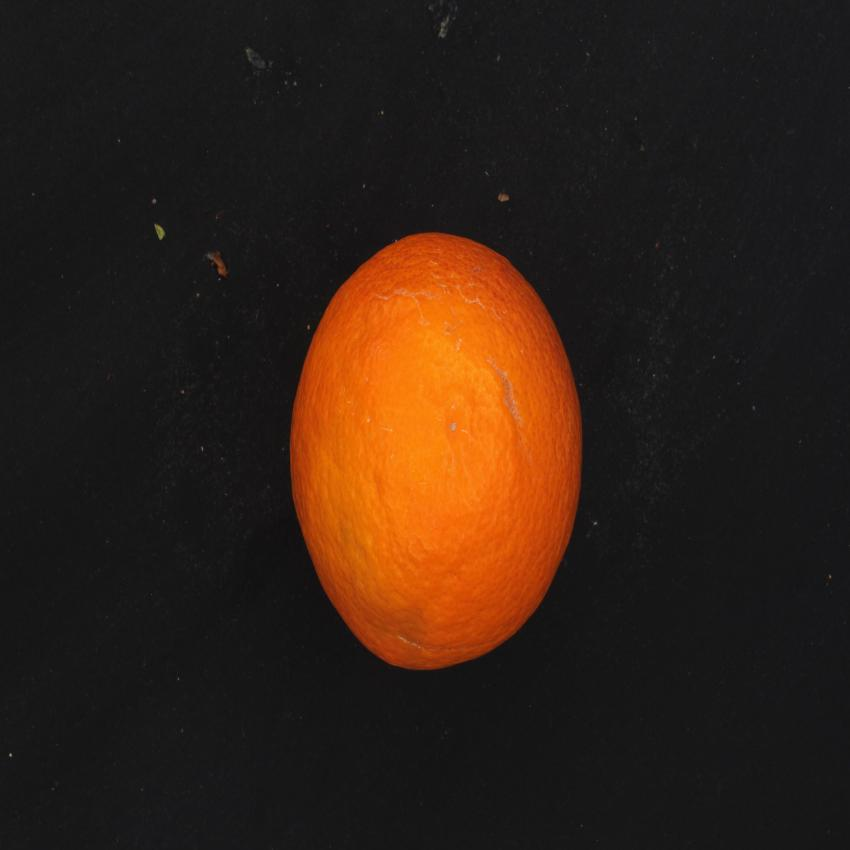Mal estado: (285, 227, 598, 679)
